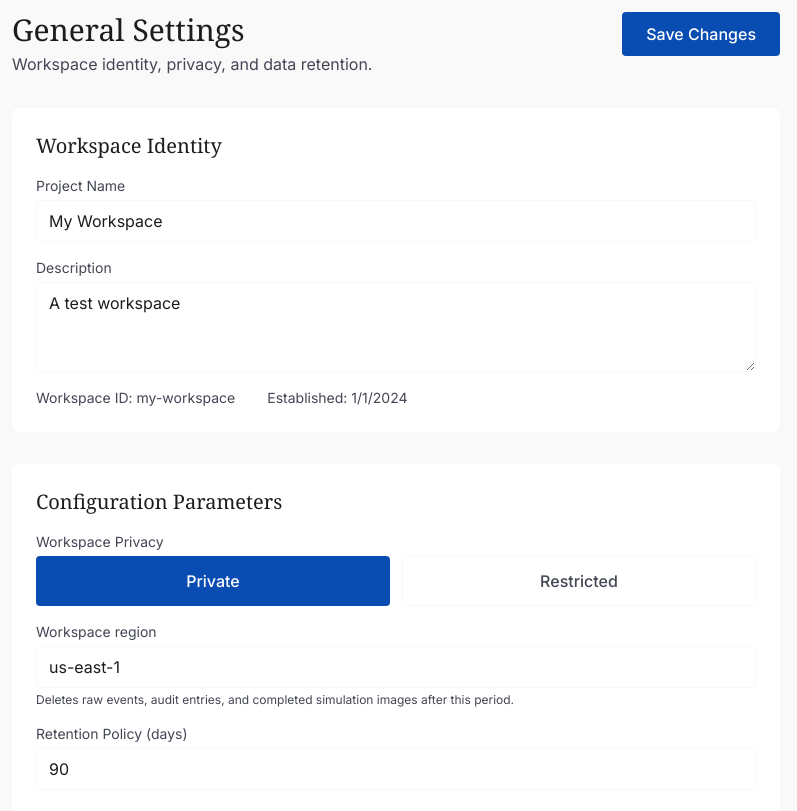
Test: GeneralSettingsPage › saves updated workspace settings
Replace the text in the field showing "My Workspace" with "Updated Workspace". click: x=396, y=221
box: [36,200,756,242]
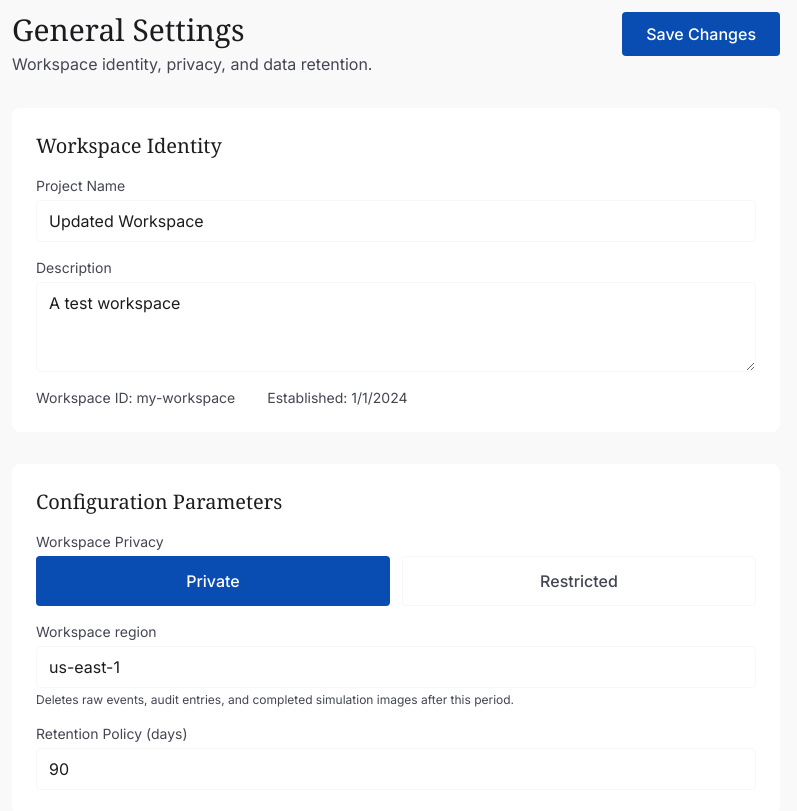
Click the button "Save Changes". click: x=701, y=34
box: [622,12,780,56]
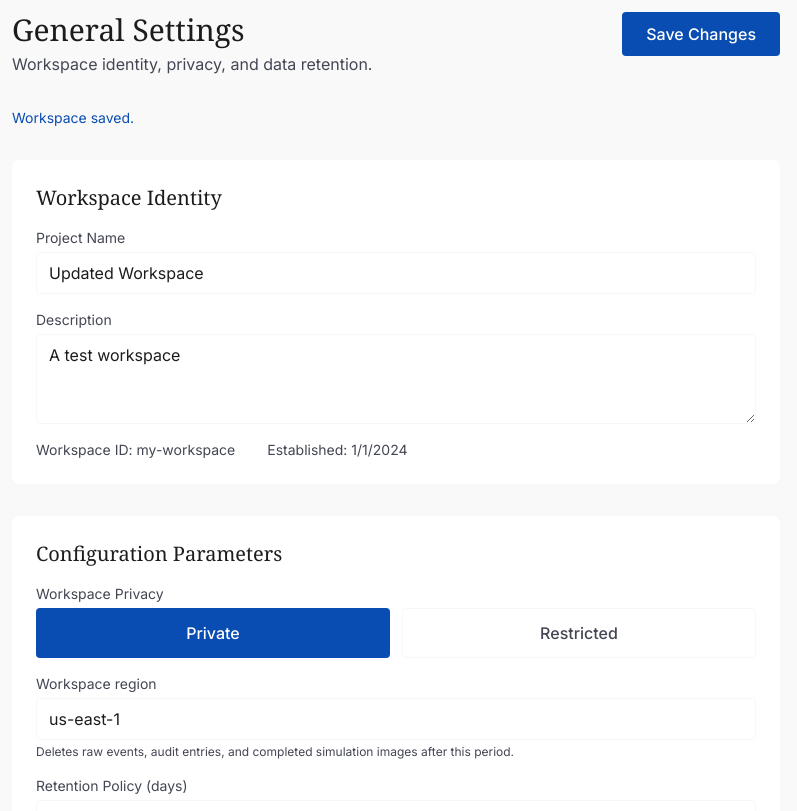
Result: the text "Workspace saved." is shown at [12,109,134,126]
